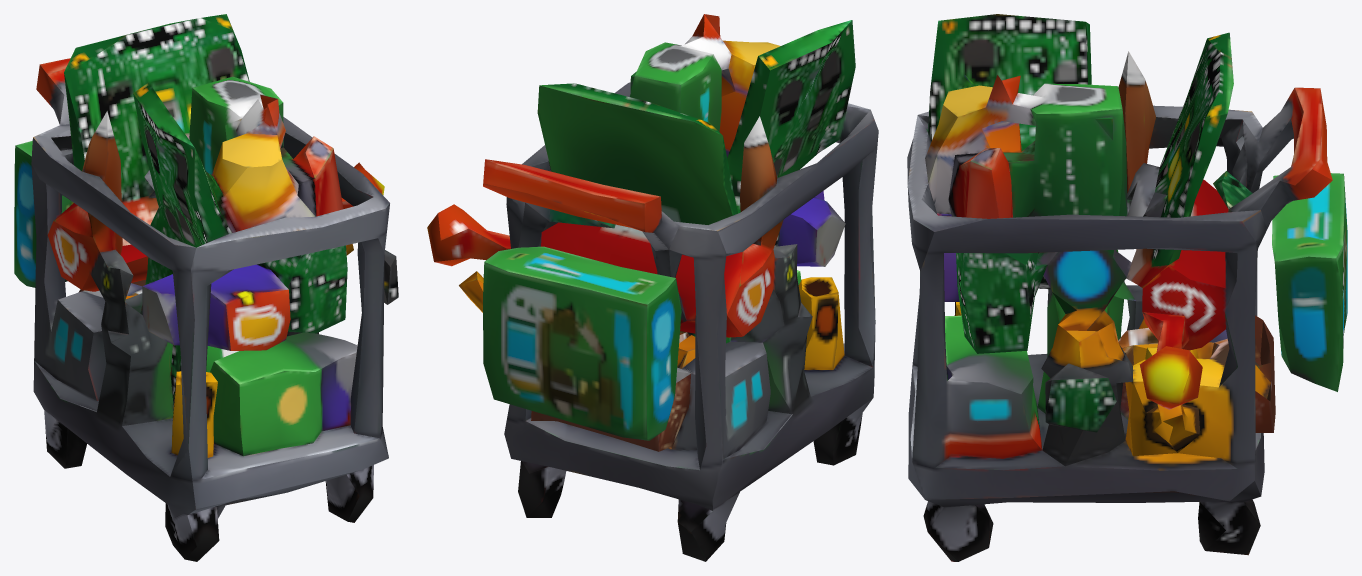
Rendered from circuit-crash-cart.glb.
3 renders of one model, left to right at view 1: azimuth 30°, elevation 25°; view 2: azimuth 150°, elevation 25°; view 3: azimuth 270°, elevation 25°, orthographic. The views are drawn at different scales.
Parts seen in each view (by area): view 1: geometry_0; view 2: geometry_0; view 3: geometry_0.
Boxes of the visible parts, left/top/right/bottom form: geometry_0: left=14, top=14, right=398, bottom=561; geometry_0: left=427, top=14, right=878, bottom=561; geometry_0: left=907, top=14, right=1347, bottom=561.
Size of the model in its own units: 0.7708 by 1 by 0.8569.
1 material, 1 textured.
